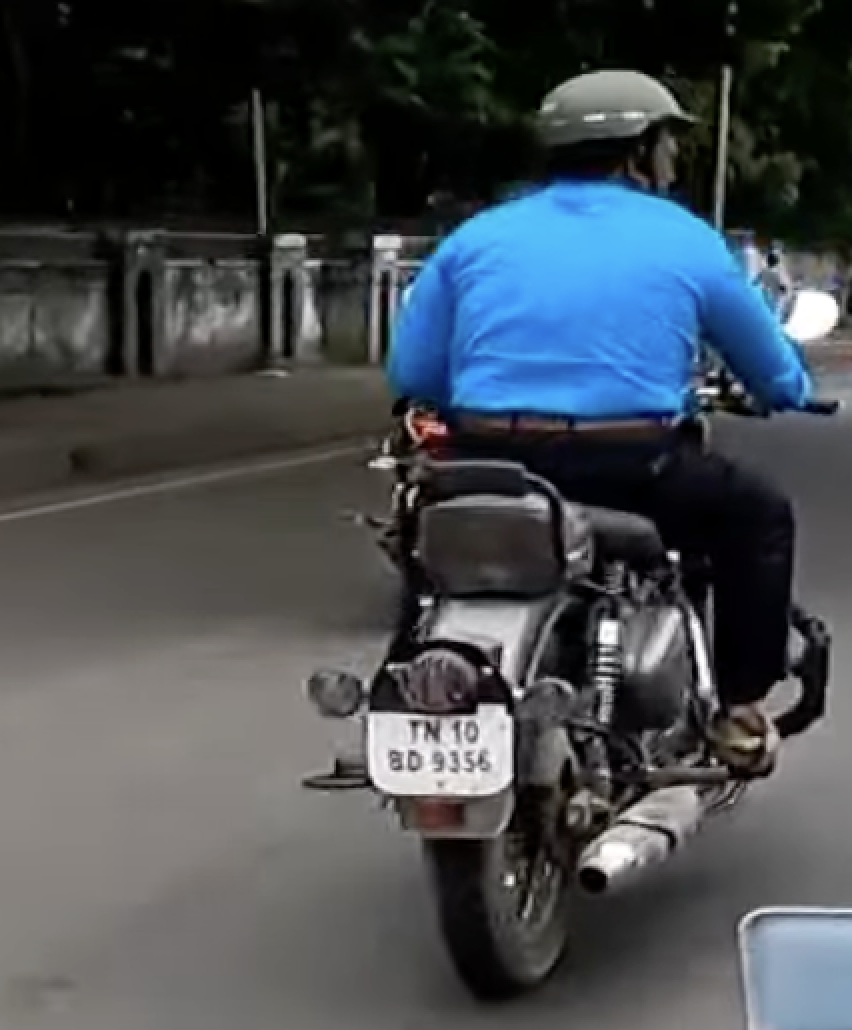motor: (369, 279, 834, 985)
number: (367, 712, 511, 791)
with helmet: (537, 60, 692, 197)
